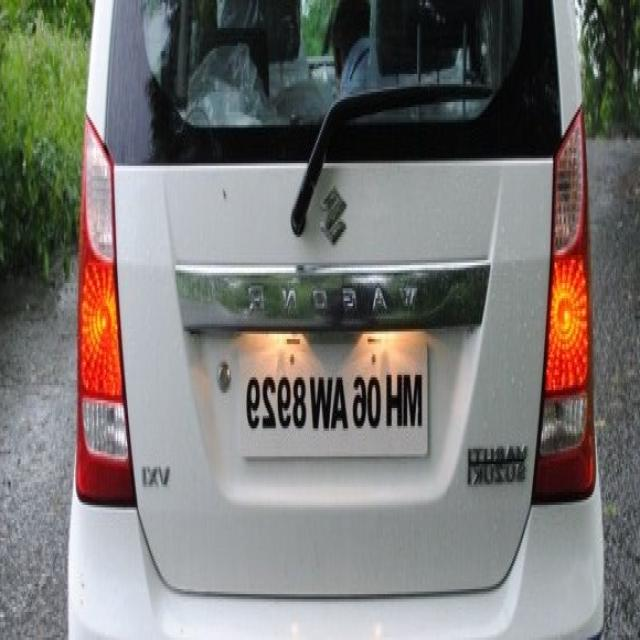number-plate: (235, 328, 433, 455)
